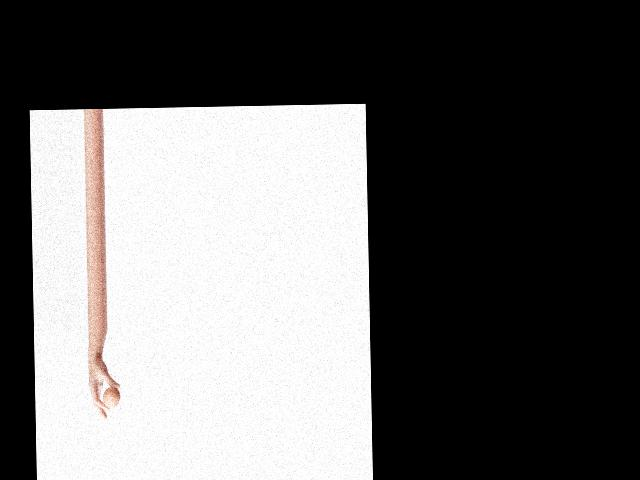egg: (103, 386, 120, 407)
